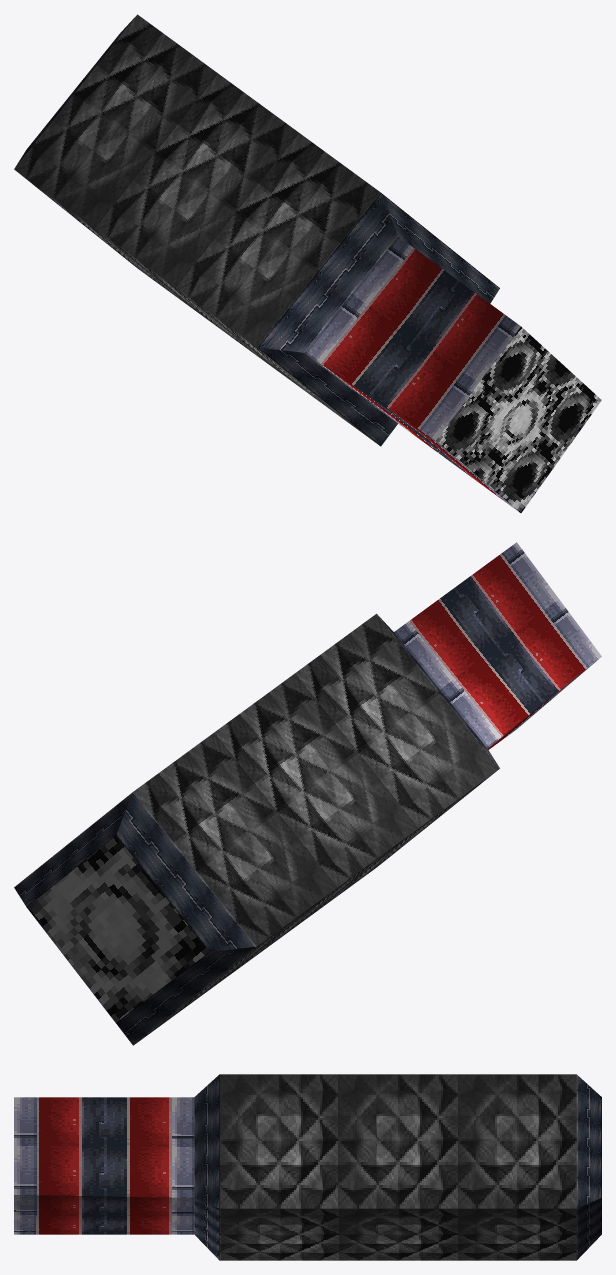
File: 1c-grenade-tp.glb
The picture shows the model from 3 angles, top to bottom: view 1: azimuth 30°, elevation 25°; view 2: azimuth 150°, elevation 25°; view 3: azimuth 270°, elevation 25°; orthographic projection. The views are drawn at different scales.
Parts seen in each view (by area): view 1: gun; view 2: gun; view 3: gun.
Boxes of the visible parts, x1,y1,x2,y2 form: gun: [14, 14, 601, 512]; gun: [14, 542, 601, 1045]; gun: [14, 1074, 601, 1260].
Bounding box in the file's own units: 68.51 × 68.51 × 196.
4 materials, 4 textured.
